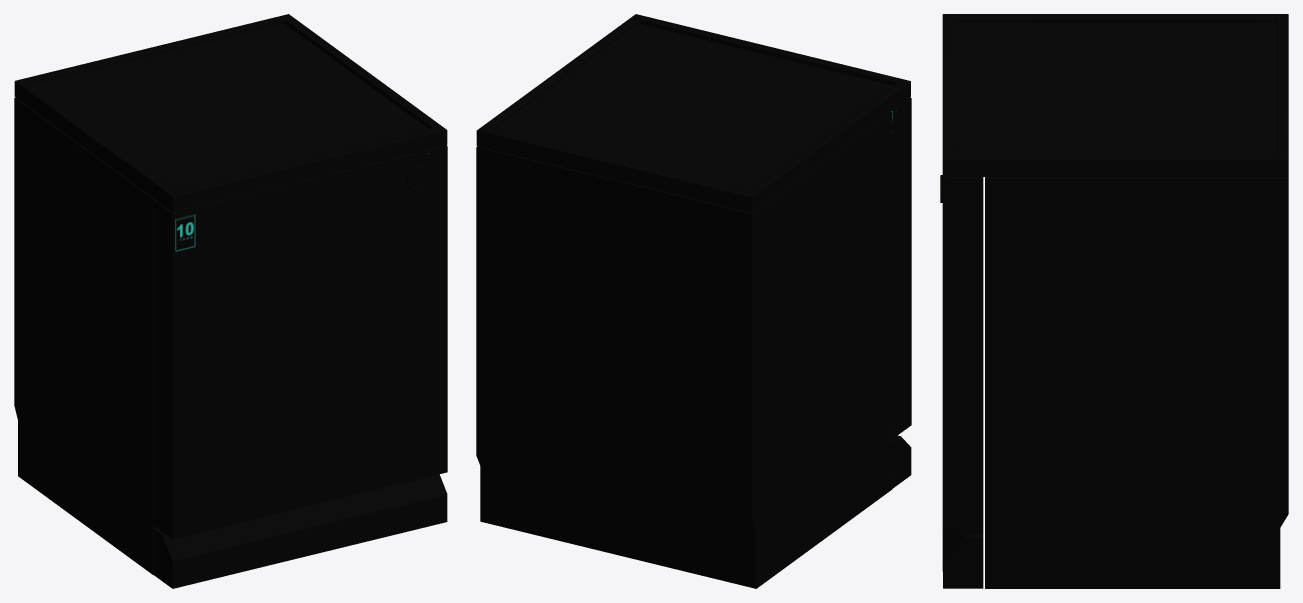
File: electronic_82_01.001.fbx
3 renders of one model, left to right at view 1: azimuth 30°, elevation 25°; view 2: azimuth 150°, elevation 25°; view 3: azimuth 270°, elevation 25°, orthographic. The views are drawn at different scales.
Visible parts, largest first — view 1: electronic_82_01.001; view 2: electronic_82_01.001; view 3: electronic_82_01.001.
Part boxes in pixels (x1,y1,x2,y2): electronic_82_01.001: [14, 14, 447, 588]; electronic_82_01.001: [476, 14, 911, 588]; electronic_82_01.001: [940, 14, 1288, 588].
Bounding box in the file's own units: 59.8 × 81.53 × 60.05.
Materials: 1 (1 with a texture image).
